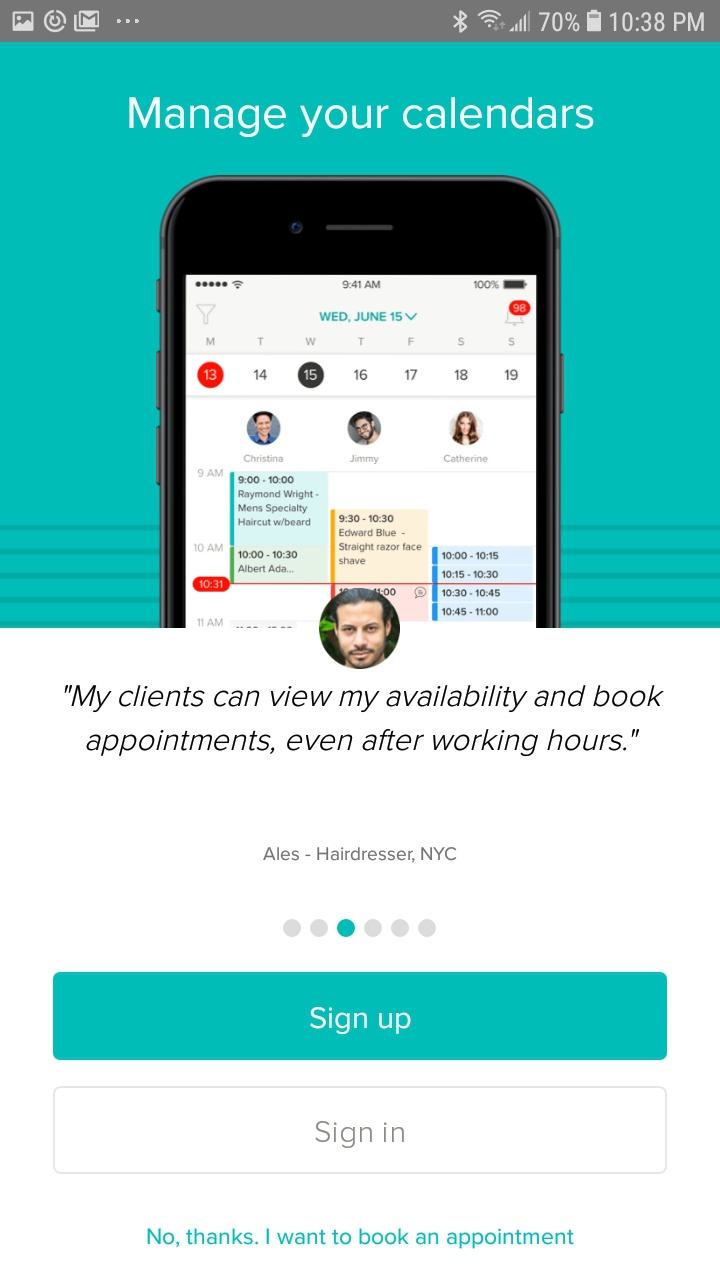Image: (156, 175, 565, 629), (319, 588, 401, 670)
PageIndicator: (283, 918, 437, 938)
Text: (65, 685, 665, 757), (129, 97, 594, 139), (148, 1227, 574, 1248), (263, 846, 458, 864)
TextButton: (53, 972, 667, 1061), (54, 1086, 667, 1174)
UpperTaskBar: (1, 1, 720, 43)
